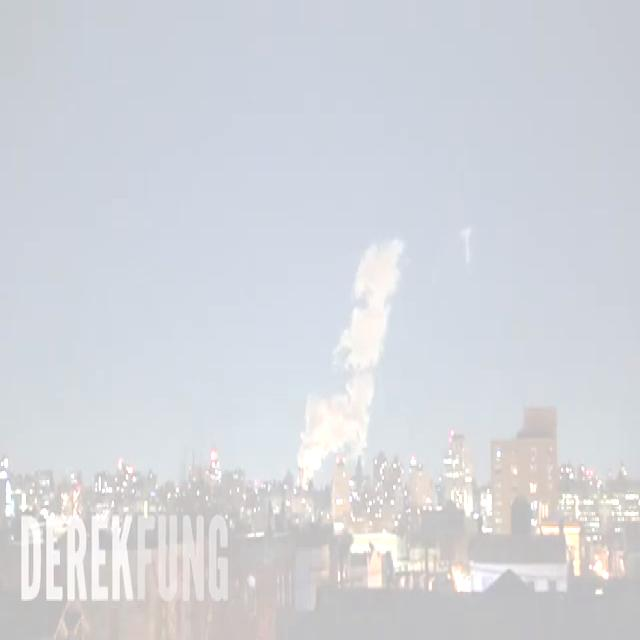smoke: (296, 240, 405, 487)
